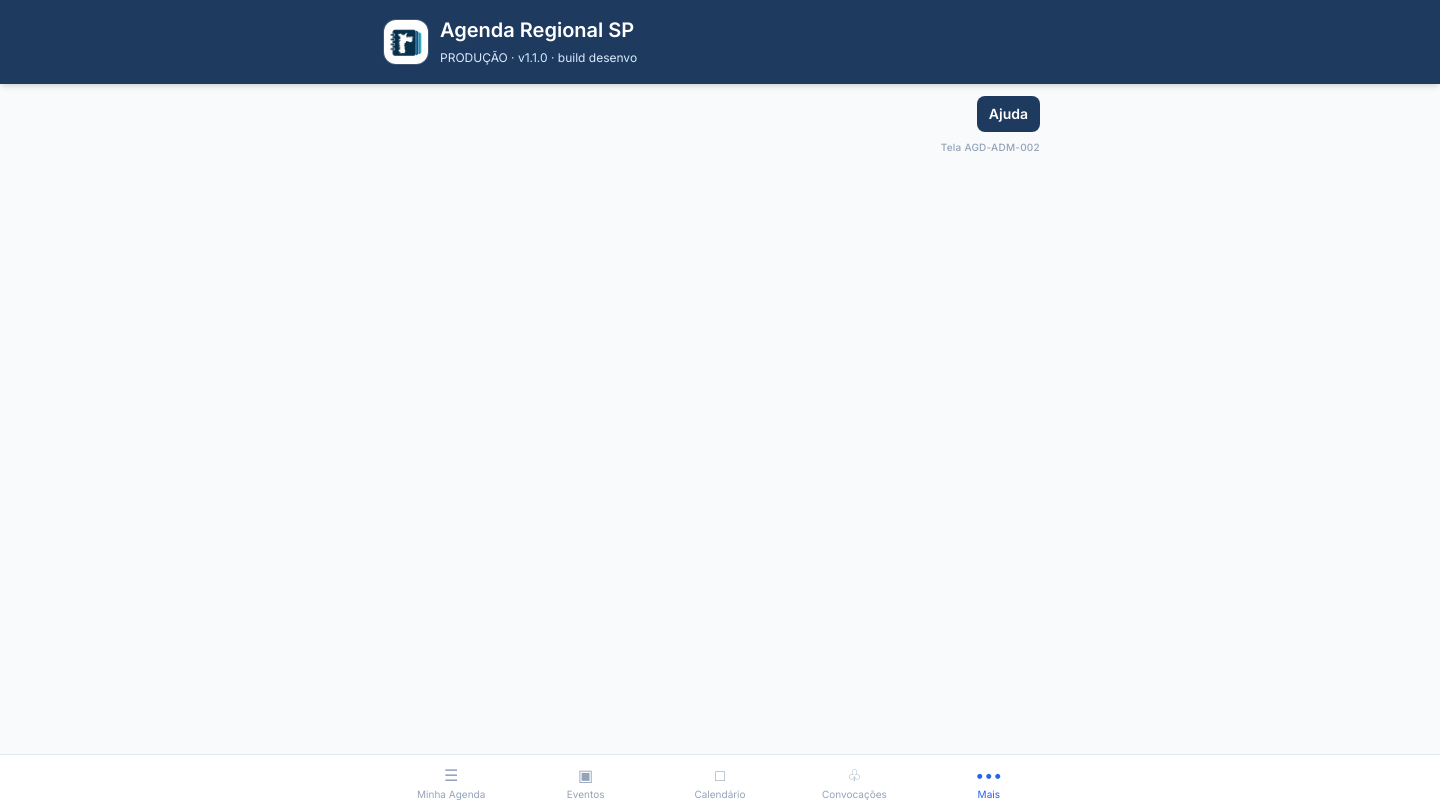
Scenario: Central de Ajuda › toda aba series tem artigo, código oficial e botão de ajuda
Click the button "Ajuda" at coordinates (1008, 114), box [977, 96, 1040, 132]
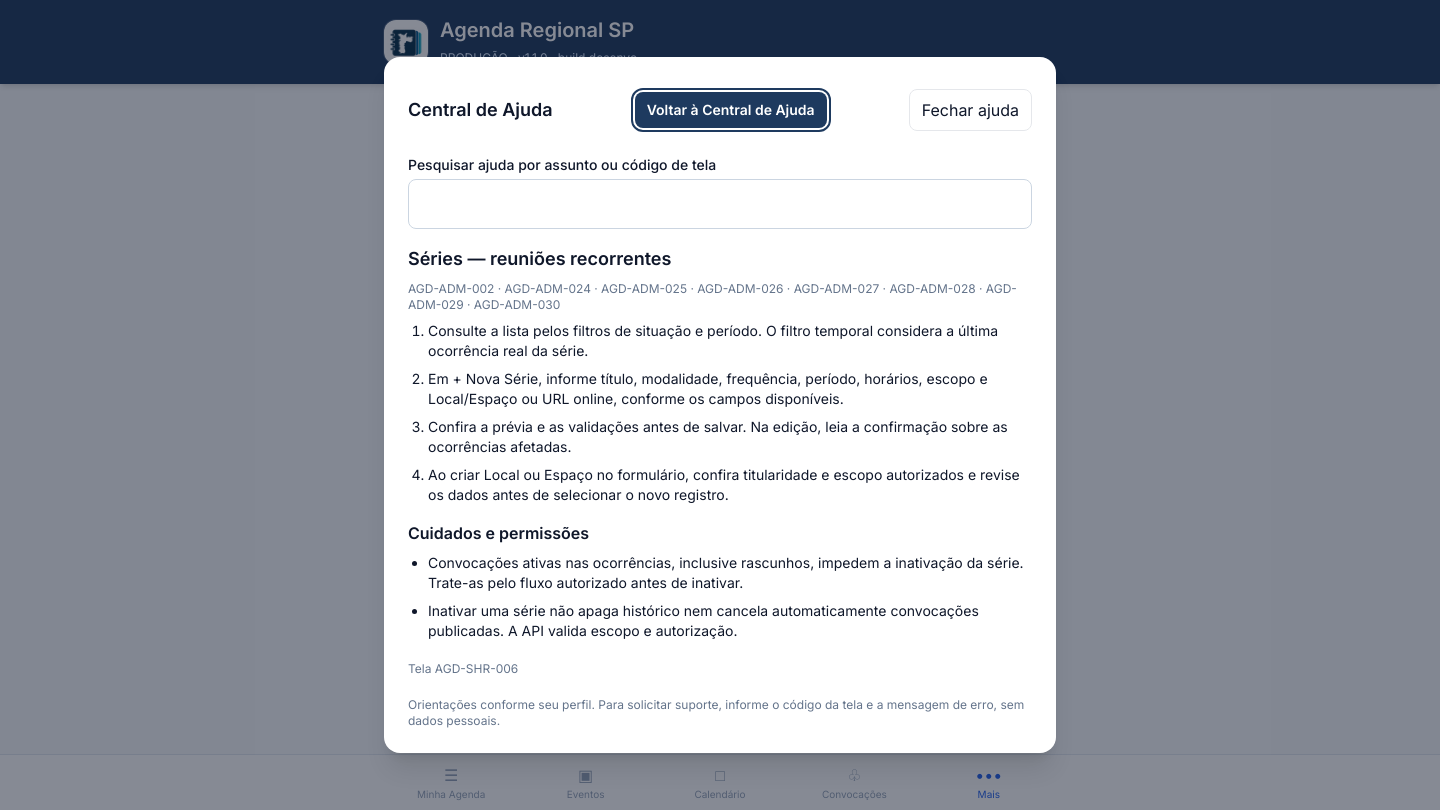
Expected: the heading "Séries — reuniões recorrentes" is shown, [408, 248, 671, 269]
